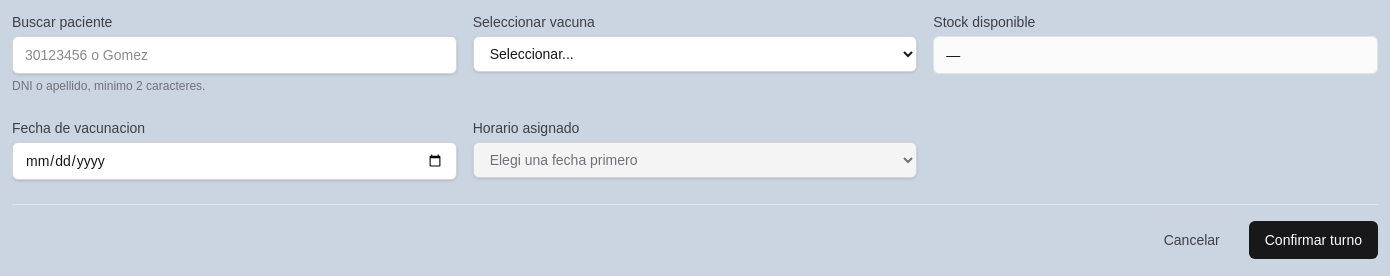
it: SIG-MEJ-04.1/04.3: disponibilidad del formulario › no anuncia día completo ni permite confirmar mientras consulta horarios
This screenshot has width=1390, height=276.
In the date field labelled "Fecha de vacunacion": (234, 161) [12, 142, 457, 180], type "2040-10-16"
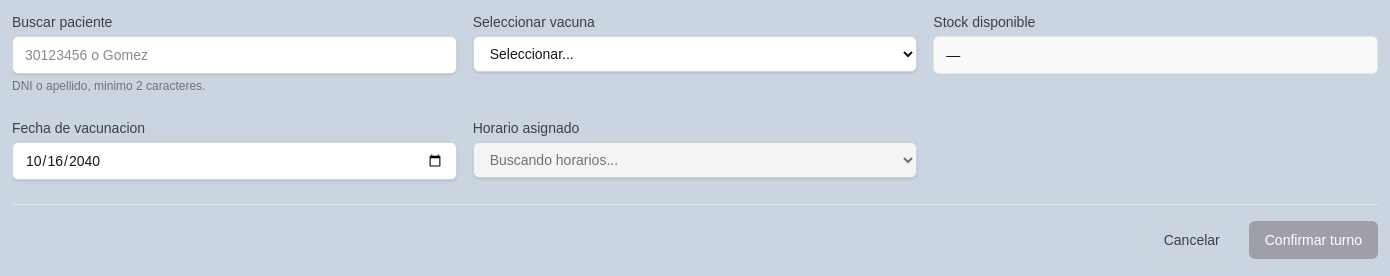
Expected: the button "Confirmar turno" is disabled, [1249, 221, 1378, 259]
Submit the form named "Horario asignado"
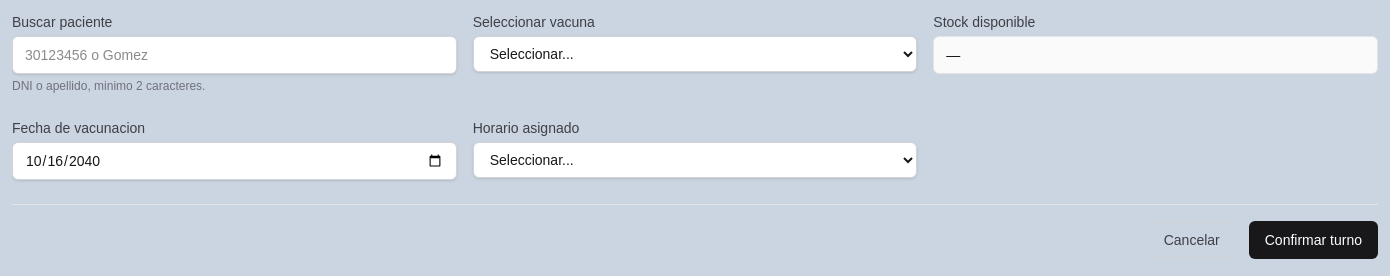
Expected: the dropdown labelled "Horario asignado" is enabled, [473, 142, 917, 178]
